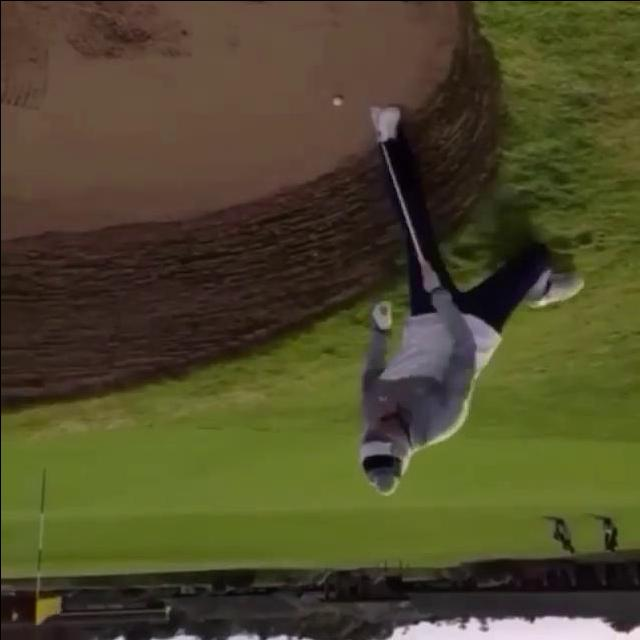golf ball: (331, 93, 342, 106)
golf club-handle: (368, 104, 424, 265)
golf club-head: (368, 107, 378, 122)
